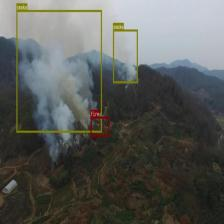fire: (90, 117, 109, 136)
smoke: (16, 10, 102, 132), (113, 29, 138, 83)
